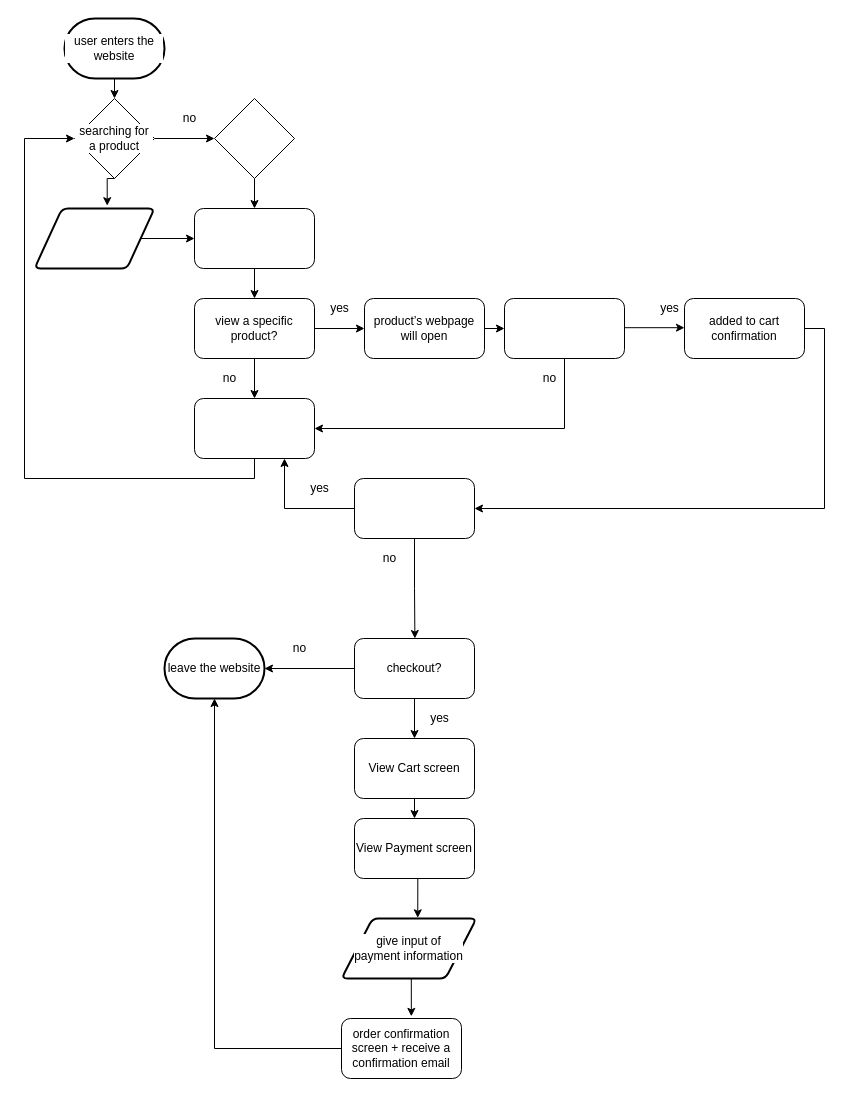
This 850x1096 diagram has some shape labels left out. The centre of each missing label's shape, as x and y in pixels:
"add product to cart?" belongs at pixel 564 328.
"begin looking over the products" belongs at pixel 254 238.
"continue shopping" belongs at pixel 254 428.
"continue shopping?" belongs at pixel 414 508.
"exploring products on the home page" belongs at pixel 254 138.
"provide input to the website of their search" belongs at pixel 94 238.
